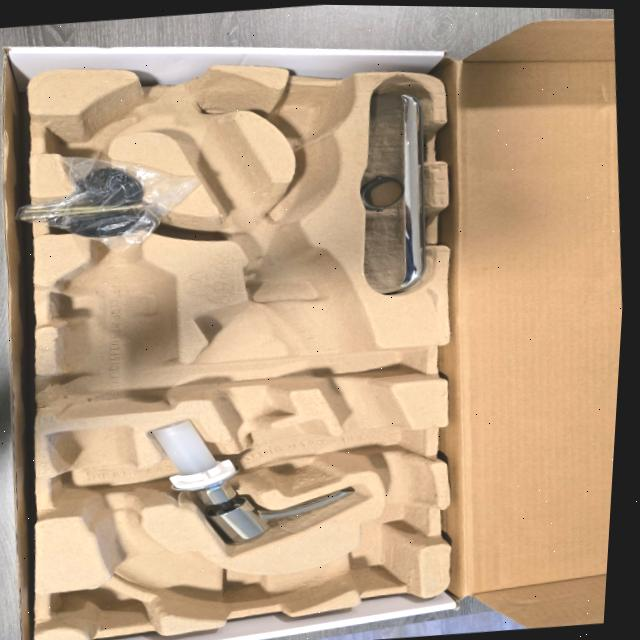1m: (46, 66, 430, 614)
2: (146, 418, 354, 542)
3m: (51, 233, 175, 416)
4: (359, 91, 428, 295)
5m: (272, 91, 341, 140)
6m: (46, 97, 141, 154)
7: (14, 154, 199, 249)
